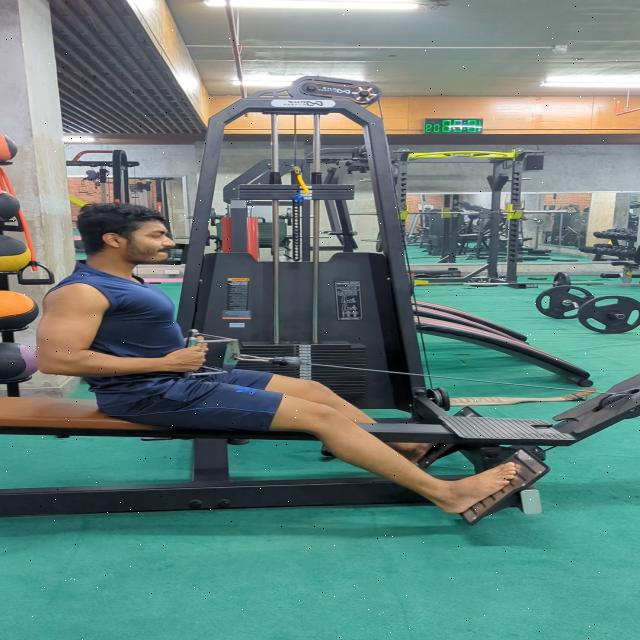Normal_RowingMachineExercise: (32, 203, 524, 515)
